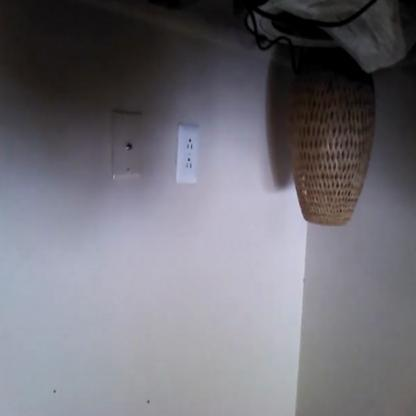OUTLET: (176, 126, 199, 184)
